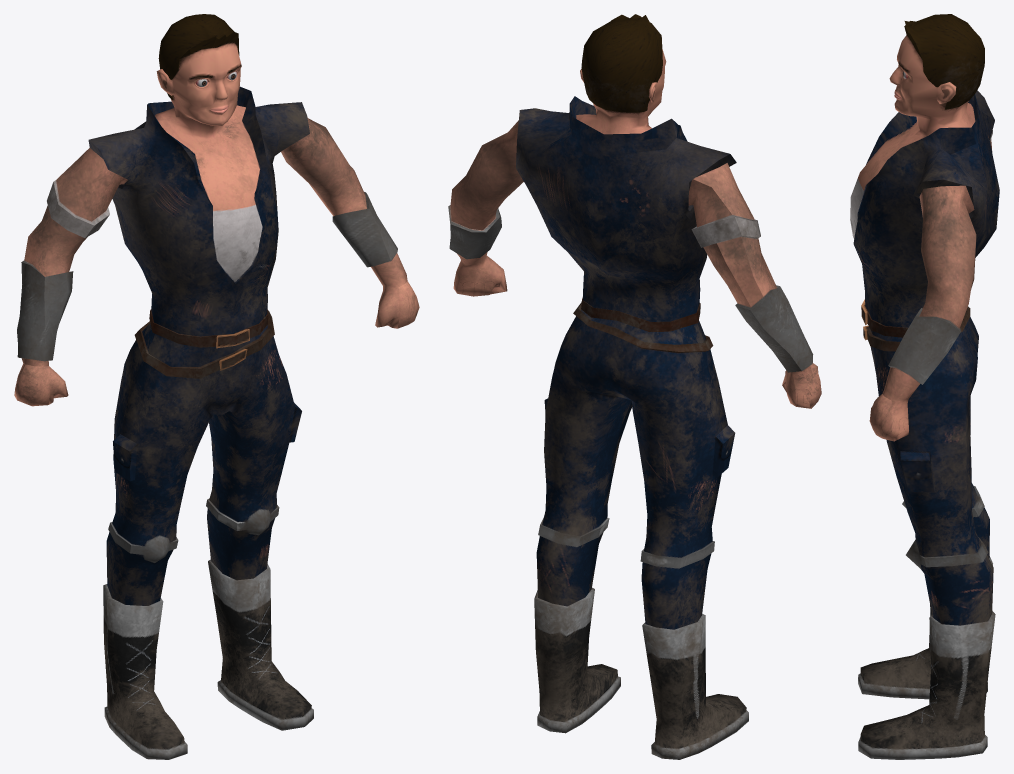
Rendered from Anim_idle_jugador.0028.obj.
3 renders of one model, left to right at view 1: azimuth 30°, elevation 25°; view 2: azimuth 150°, elevation 25°; view 3: azimuth 270°, elevation 25°, orthographic.
Parts seen in each view (by area): view 1: polySurface1; view 2: polySurface1; view 3: polySurface1.
Boxes of the visible parts, x1,y1,x2,y2 form: polySurface1: (14,14,419,759); polySurface1: (448,14,821,759); polySurface1: (850,14,999,759).
Size of the model in its own units: 5.49 by 9.65 by 1.86.
